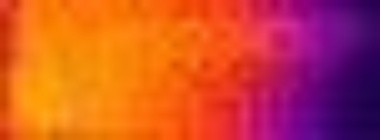Shadow: (242, 1, 380, 140)
